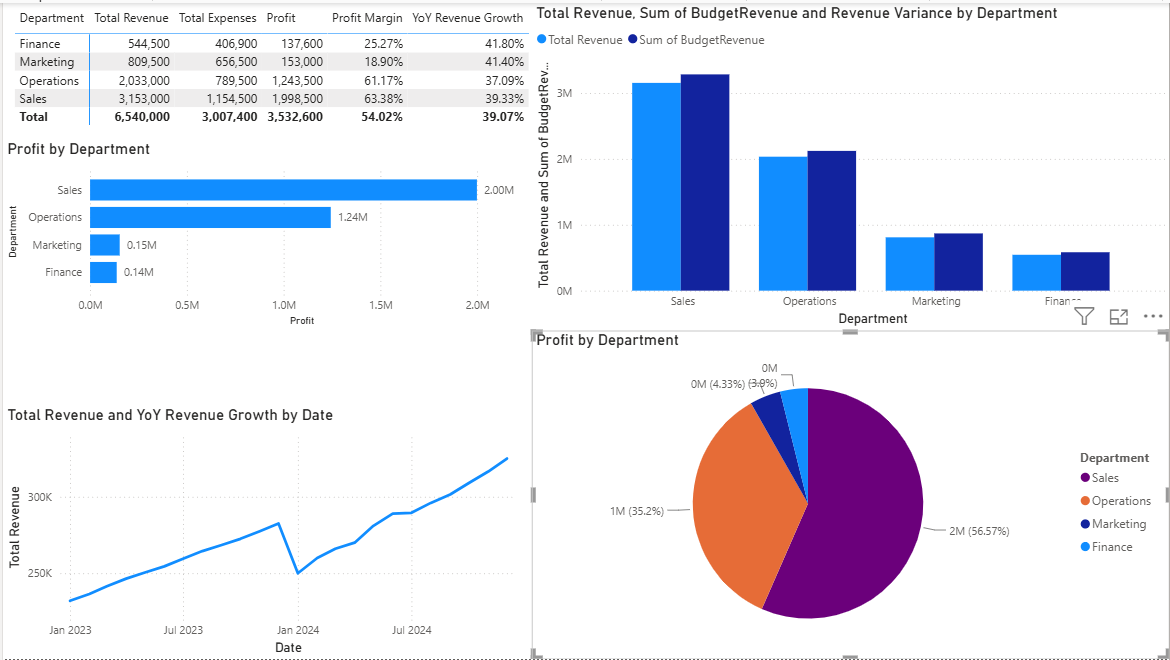

The page's visual inventory and layout, read from the dashboard file:
{"tool":"powerbi","page":{"name":"Page 1","canvas":[1280,720],"ordinal":0},"visuals":[{"type":"pivotTable","fields":{"Rows":["factfinance.Department"],"Values":["factfinance.Total Revenue","factfinance.Total Expenses","factfinance.Profit","factfinance.Profit Margin","factfinance.YoY Revenue Growth"]},"box":[8.8,0,776.4,279.3],"z":0},{"type":"lineChart","fields":{"Category":["DateTable.Date"],"Y":["factfinance.Total Revenue"]},"box":[0,441.9,580.4,278.6],"z":1000},{"type":"clusteredBarChart","fields":{"Y":["factfinance.Profit"],"Category":["departmentid-departmentname-4.Department"]},"box":[0,149.6,580.4,209.9],"z":2000},{"type":"clusteredColumnChart","fields":{"Category":["departmentid-departmentname-4.Department"],"Y":["factfinance.Total Revenue","Sum(factfinance.BudgetRevenue)"]},"box":[580.4,0,699.8,359.5],"z":2001},{"type":"pieChart","fields":{"Category":["departmentid-departmentname-4.Department"],"Y":["factfinance.Profit"]},"box":[580.4,359.5,699.8,360.9],"z":2002}]}

Visuals, with their boxes in screenshot pixels (x1, y1, x2, y2), scaled from the page's 1280x720 canvas onto the 1170x660 screenshot:
pivotTable - factfinance.Department x factfinance.Total Revenue: (x1=8, y1=0, x2=718, y2=256)
lineChart - DateTable.Date x factfinance.Total Revenue: (x1=0, y1=405, x2=531, y2=659)
clusteredBarChart - factfinance.Profit x departmentid-departmentname-4.Department: (x1=0, y1=137, x2=531, y2=330)
clusteredColumnChart - departmentid-departmentname-4.Department x factfinance.Total Revenue: (x1=531, y1=0, x2=1169, y2=330)
pieChart - departmentid-departmentname-4.Department x factfinance.Profit: (x1=531, y1=330, x2=1169, y2=659)
